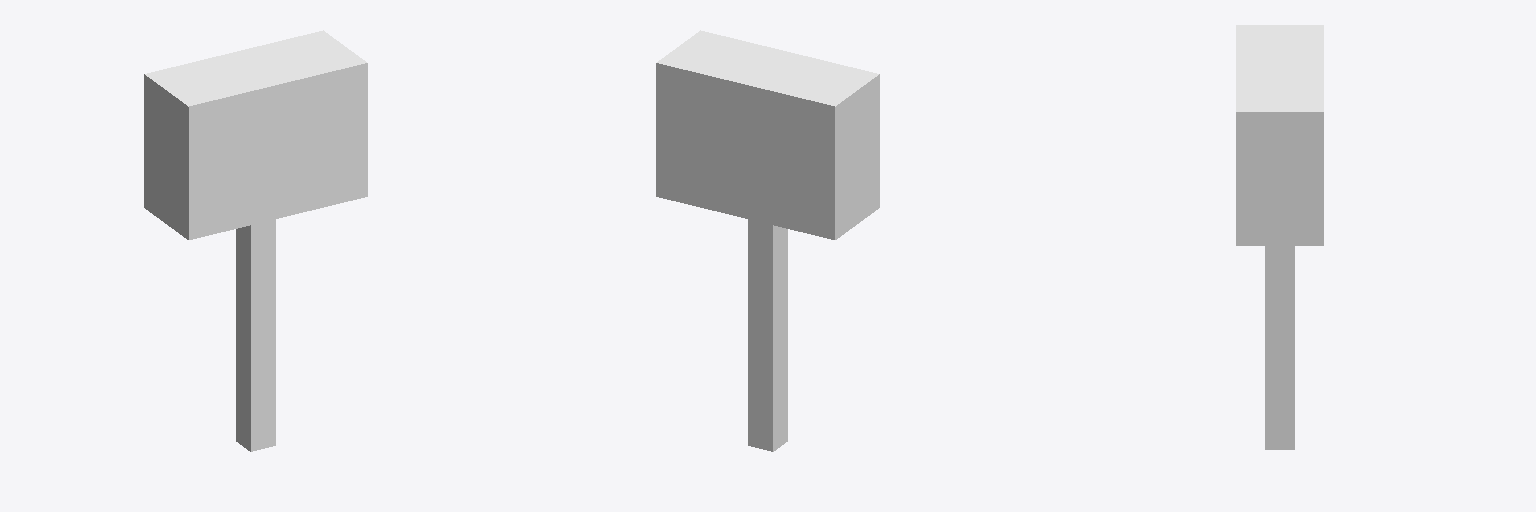
Rendered from Anvil-0.obj.
3 views of the same model, side by side, from view 1: azimuth 30°, elevation 25°; view 2: azimuth 150°, elevation 25°; view 3: azimuth 270°, elevation 25° (orthographic).
Visible parts, largest first — view 1: object 1; view 2: object 1; view 3: object 1.
Boxes of the visible parts, x1=… form: object 1: x1=144, y1=30, x2=367, y2=451; object 1: x1=656, y1=30, x2=879, y2=451; object 1: x1=1236, y1=25, x2=1323, y2=449.
Bounding box in the file's own units: 0.7 × 1.4 × 0.3.